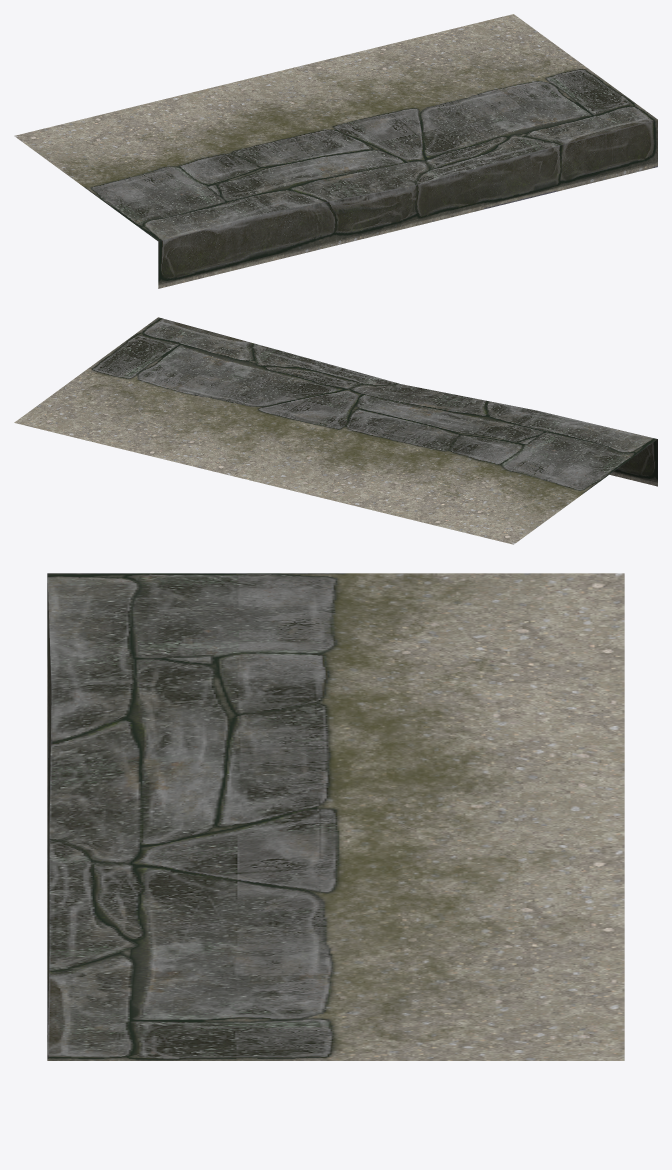
The model's file is Steps.fbx.
3 renders of one model, top to bottom at view 1: azimuth 30°, elevation 25°; view 2: azimuth 150°, elevation 25°; view 3: azimuth 270°, elevation 25°, orthographic. The views are drawn at different scales.
Visible parts, largest first — view 1: Steps; view 2: Steps; view 3: Steps.
Part boxes in pixels (bbox=[...]): Steps: bbox=[14, 14, 657, 288]; Steps: bbox=[14, 317, 657, 544]; Steps: bbox=[47, 573, 624, 1060].
Bounding box in the file's own units: 4 × 0.3947 × 2.
